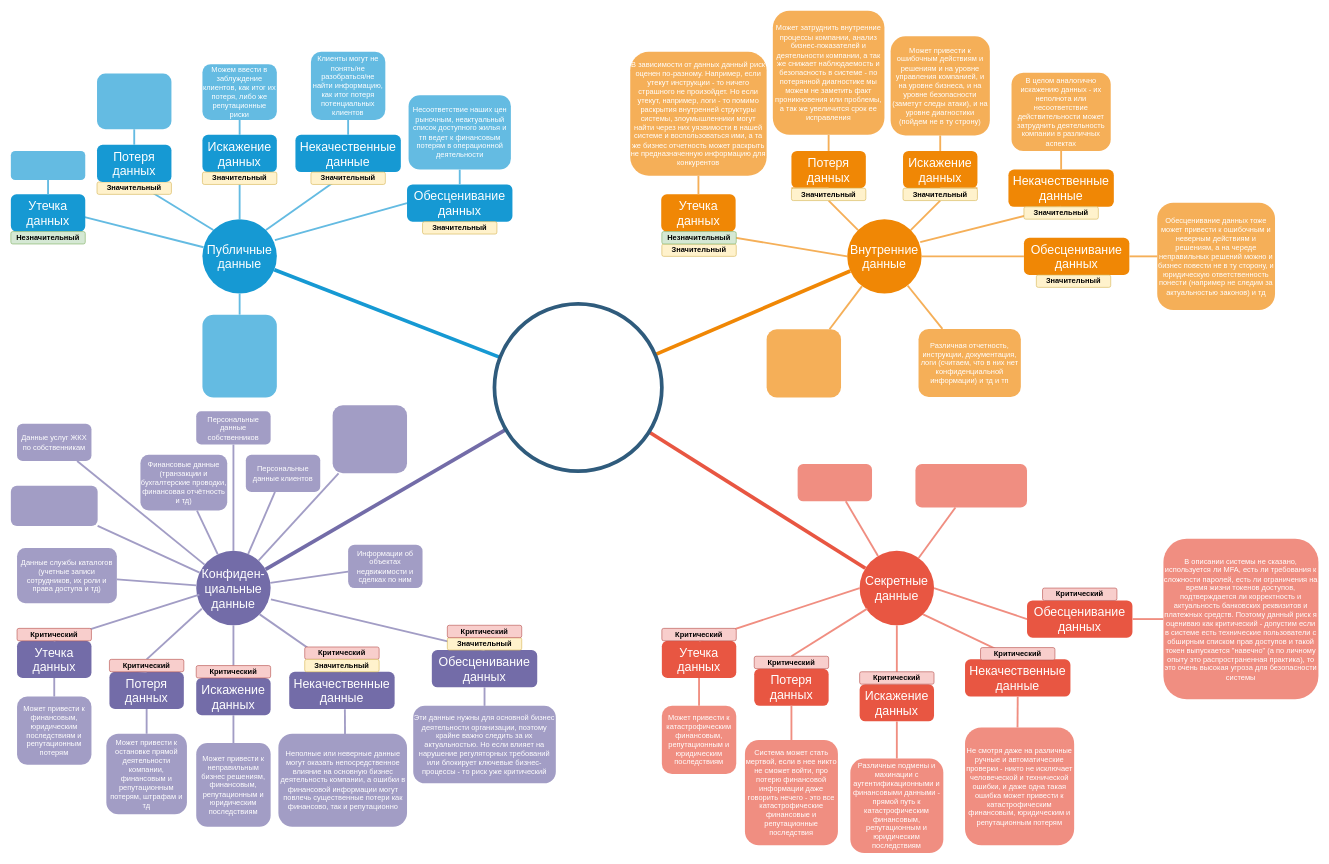
Image size: 1329x864. Some labels were removed from this diagram. The shapes that lost their labels are listed below. From the top down, each one's box as (x1, y1, x2, y2) in pixels, then its label:
(97, 73, 171, 129): Из-за недоступности данных можем потерять потенциальных клиентов
(11, 151, 85, 180): Данные и так публичны
(202, 314, 277, 397): Объекты недвижимости - их характеристики, местоположение и доступность
(766, 329, 841, 397): Данные о внутренней структуре, сотрудниках и процессах организации
(492, 302, 663, 473): Безопасность данных
(332, 405, 407, 473): Данные проведения онлайн-тура, включающая данные о клиентах, участвующих в турах
(797, 464, 872, 501): Логины, пароли и токены доступа
(915, 464, 1027, 507): Платежные счета и банковские реквизиты, данные о финансовых операциях
(11, 485, 97, 526): Консолидированные данные из всех систем компании
